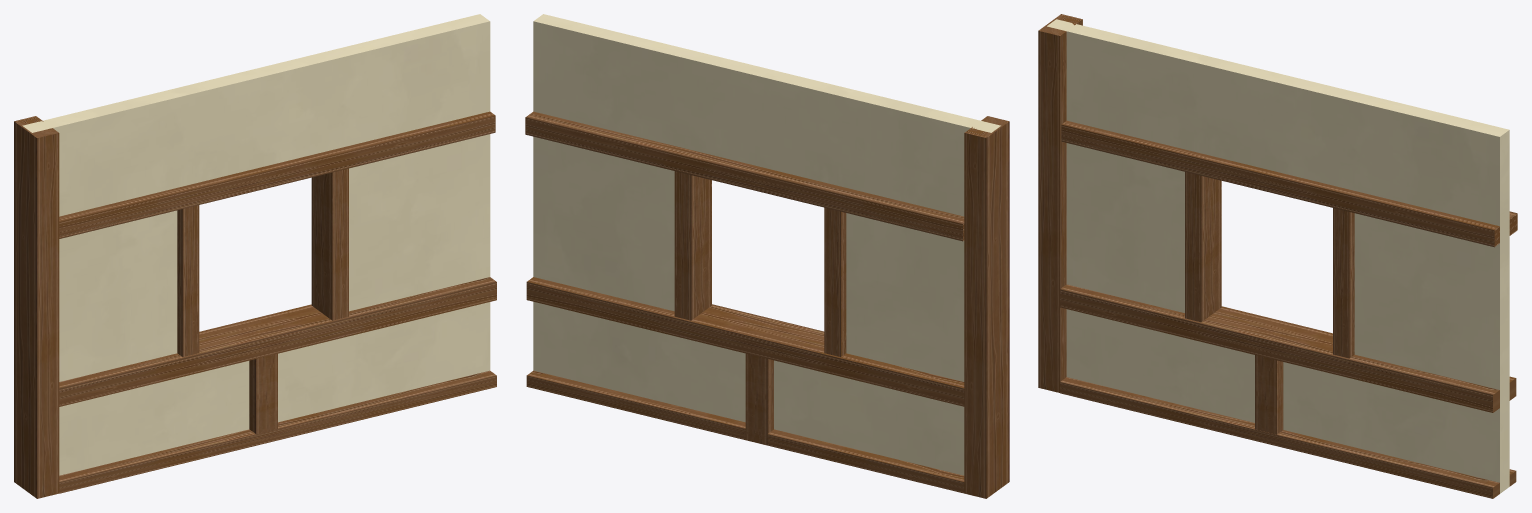
Rendered from SM_Window_Wall_02_wcream.glb.
3 renders of one model, left to right at view 1: azimuth 30°, elevation 25°; view 2: azimuth 150°, elevation 25°; view 3: azimuth 330°, elevation 25°, orthographic.
Visible parts, largest first — view 1: SM_Window_Wall_02; view 2: SM_Window_Wall_02; view 3: SM_Window_Wall_02.
Boxes of the visible parts, x1,y1,x2,y2 form: SM_Window_Wall_02: (14,14,496,498); SM_Window_Wall_02: (525,14,1009,498); SM_Window_Wall_02: (1038,14,1517,498).
Size of the model in its own units: 4 by 3 by 0.3736.
2 materials, 2 textured.
